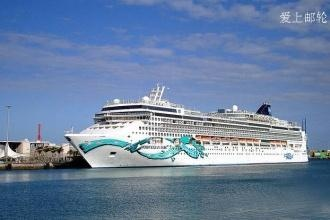youlun: (56, 88, 315, 171)
